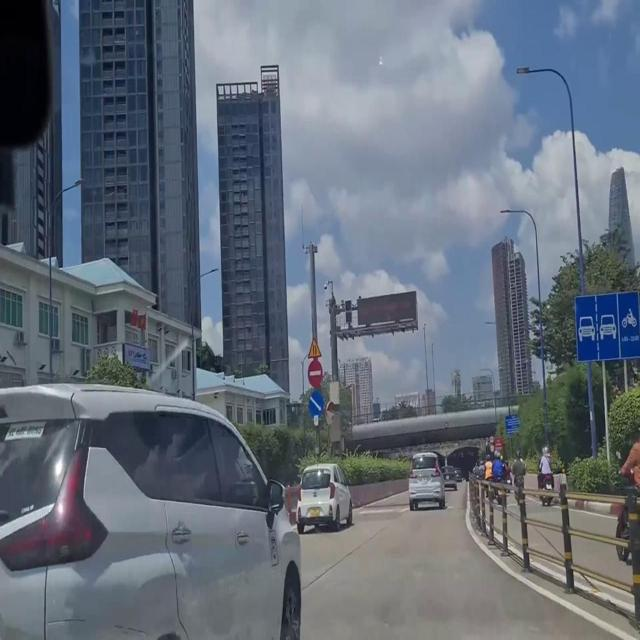Cấm đi ngược chiều: (305, 357, 325, 385)
Hướng phải đi vòng sang phải: (305, 386, 324, 419)
Khác: (502, 408, 523, 435)
Làn đường cho từng xe: (566, 281, 636, 366)
Đường hẹp: (304, 336, 321, 360)
